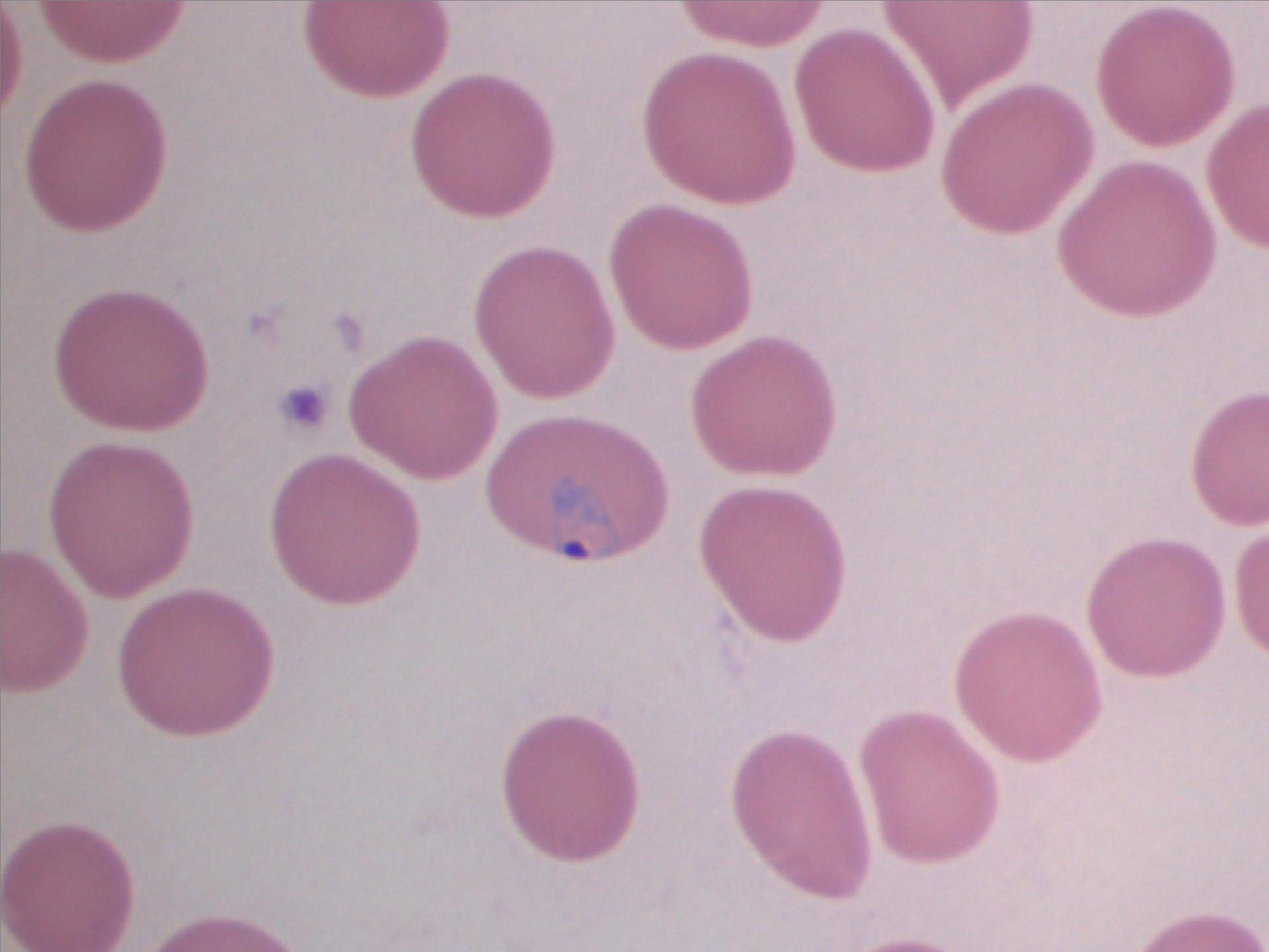Infected: (603, 390, 780, 533)
Uninfected: (392, 51, 533, 222), (53, 636, 210, 788), (767, 474, 927, 621), (480, 741, 621, 898), (419, 317, 570, 463), (849, 349, 996, 495), (178, 719, 327, 863), (630, 84, 765, 240), (653, 553, 794, 700), (997, 216, 1144, 357), (1077, 355, 1217, 503), (169, 192, 313, 334), (1063, 521, 1211, 659), (434, 472, 574, 613), (272, 89, 409, 233), (336, 778, 475, 919), (1102, 723, 1238, 867), (716, 735, 855, 875), (518, 600, 645, 748), (47, 275, 181, 408), (35, 808, 169, 941), (1137, 1, 1266, 123), (239, 846, 385, 949), (821, 856, 962, 951), (1182, 259, 1267, 390), (1, 429, 74, 551), (1086, 890, 1233, 948)
